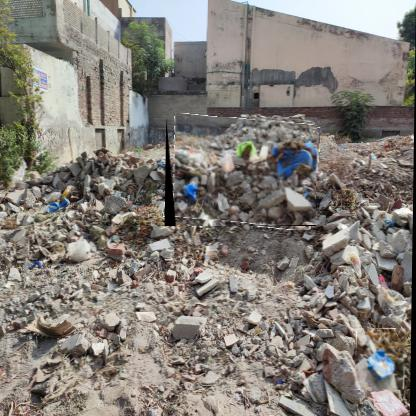Garbage: (167, 118, 320, 228), (357, 329, 409, 392)
